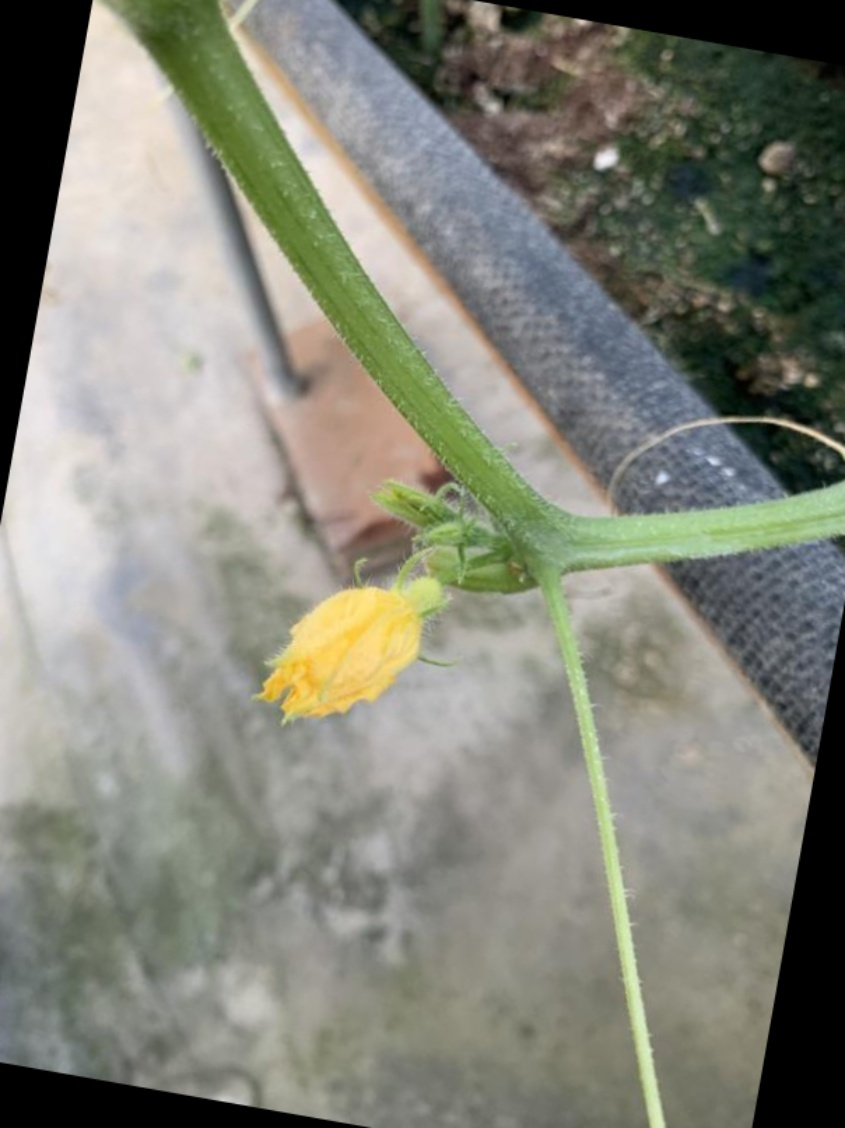bud: (223, 552, 458, 745)
